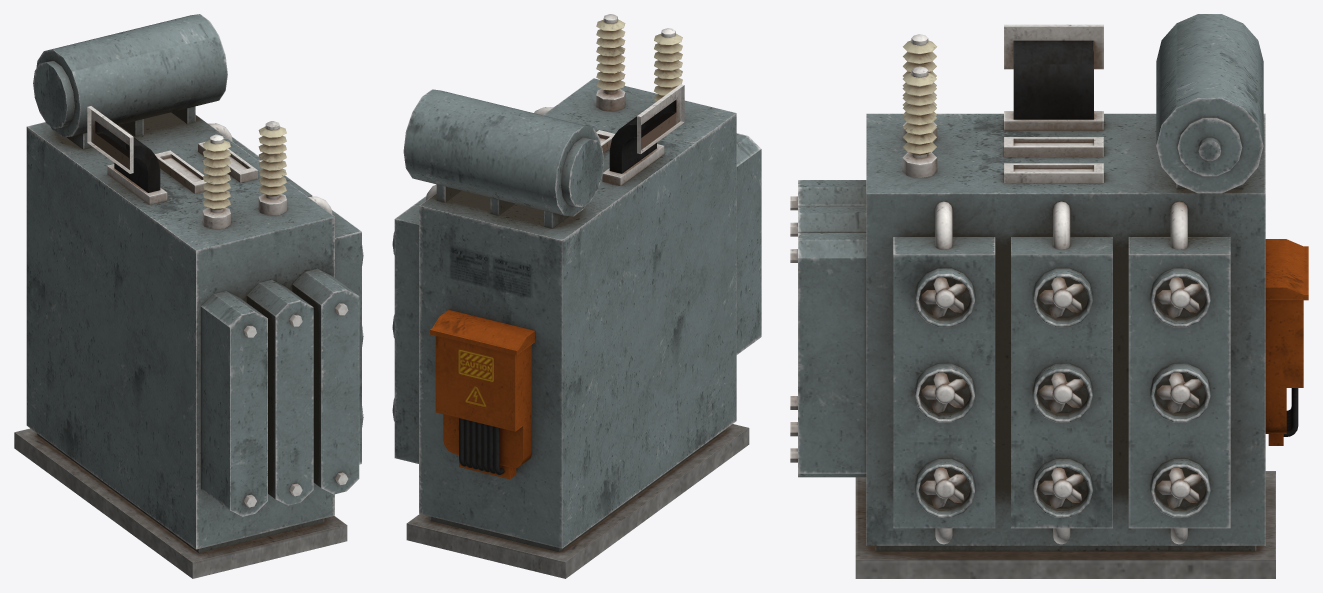
File: transformer.glb
3 views of the same model, side by side, from view 1: azimuth 30°, elevation 25°; view 2: azimuth 150°, elevation 25°; view 3: azimuth 270°, elevation 25° (orthographic). The views are drawn at different scales.
Parts seen in each view (by area): view 1: MainBody, SideCoolers, OilTank, Base, ElectricalRack, FrontCoolers, TopPorts, Coil.001, Coil; view 2: MainBody, OilTank, Panel, Base, FrontCoolers, SideCoolers, ElectricalRack, Coil.001, Coil, TopPorts; view 3: FrontCoolers, MainBody, Fans, SideCoolers, OilTank, Base, ElectricalRack, Panel, TopPorts, Coil.001, Coil.
Part boxes in pixels (box(x1,y1,x2,y2)): MainBody: box(26, 112, 334, 552); SideCoolers: box(201, 268, 359, 516); OilTank: box(33, 14, 227, 149); Base: box(14, 428, 347, 578); ElectricalRack: box(87, 106, 160, 192); FrontCoolers: box(208, 123, 361, 464); TopPorts: box(107, 141, 257, 204); Coil.001: box(258, 121, 286, 215); Coil: box(202, 134, 230, 229); MainBody: box(419, 78, 736, 552); OilTank: box(403, 89, 604, 228); Panel: box(430, 310, 535, 479); Base: box(406, 424, 749, 578); FrontCoolers: box(394, 107, 553, 463); SideCoolers: box(736, 133, 761, 354); ElectricalRack: box(609, 84, 684, 173); Coil.001: box(596, 14, 625, 111); Coil: box(654, 28, 682, 101); TopPorts: box(596, 130, 664, 185); FrontCoolers: box(893, 201, 1230, 544); MainBody: box(866, 113, 1265, 551); Fans: box(915, 268, 1210, 517); SideCoolers: box(790, 180, 866, 477); OilTank: box(1156, 14, 1263, 193); Base: box(855, 471, 1275, 578); ElectricalRack: box(1004, 24, 1103, 119); Panel: box(1265, 239, 1308, 445); TopPorts: box(1004, 111, 1103, 182); Coil.001: box(902, 66, 937, 177); Coil: box(902, 34, 937, 142).
Bounding box in the file's own units: 2.55 × 5.09 × 4.93.
1 material, 1 textured.
